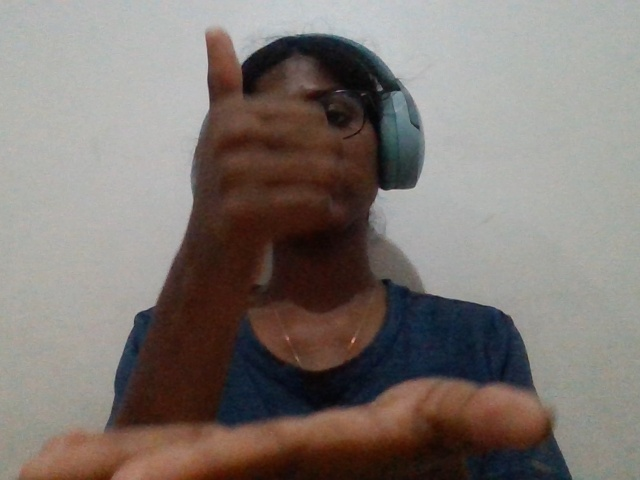Help: (59, 23, 563, 480)
